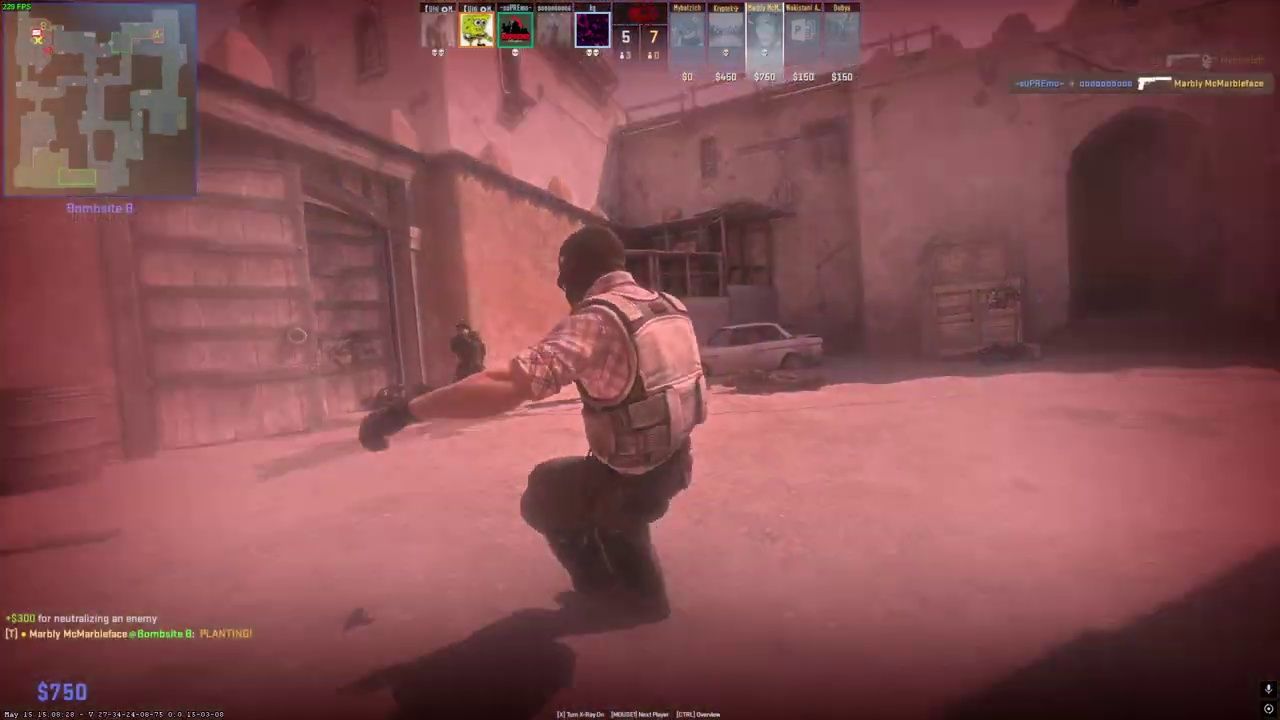CT: (452, 323, 486, 383)
Terrorist: (511, 224, 707, 623)
